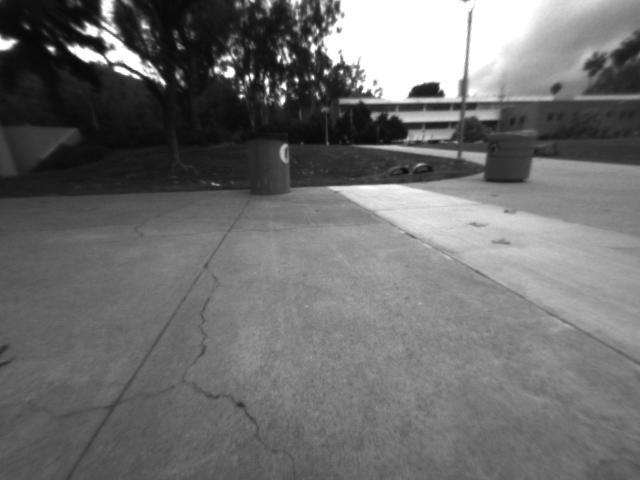trashcan: (246, 131, 297, 194), (484, 126, 528, 188)
